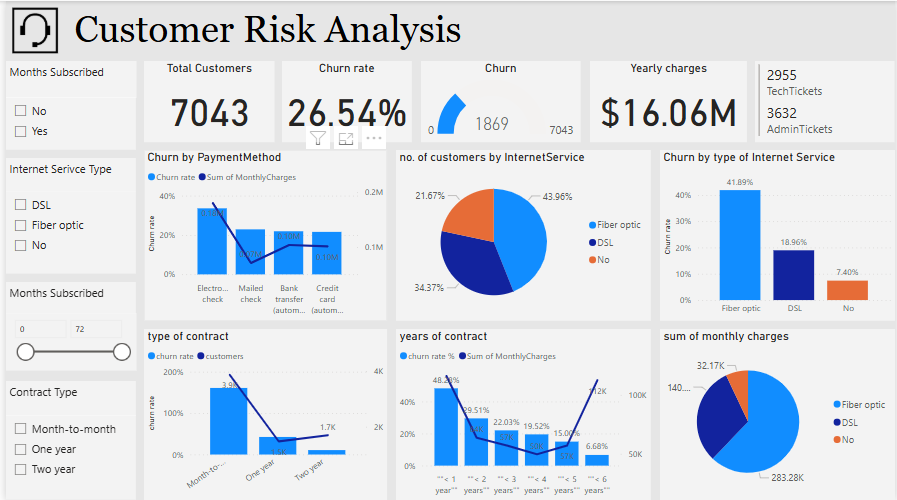

Layout of this report page (visuals, bound fields, positions):
{"tool":"powerbi","page":{"name":"Customer Risk Analysis","canvas":[1280,720],"ordinal":1},"visuals":[{"type":"lineClusteredColumnComboChart","title":"Churn by PaymentMethod","fields":{"Category":["01 Churn-Dataset.PaymentMethod"],"Y":["Divide(CountNonNull(Churned.Churn), ScopedEval(CountNonNull(Churned.Churn), []))"],"Y2":["Sum(Churned.MonthlyCharges)"]},"box":[198.2,214.7,350.1,246.1],"z":0},{"type":"card","title":"Total Customers","fields":{"Values":["CountNonNull(01 Churn-Dataset.Churn)"]},"box":[198.2,85.9,188.3,117.3],"z":1000},{"type":"pieChart","title":"sum of monthly charges","fields":{"Y":["Sum(Churned.MonthlyCharges)"],"Category":["Churned.InternetService"]},"box":[941.4,472.4,338.6,247.7],"z":2000},{"type":"lineClusteredColumnComboChart","title":"type of contract","fields":{"Y":["Churned.churn rate %"],"Category":["Churned.Contract"],"Y2":["CountNonNull(Churned.customerID)"]},"box":[198.2,472.4,350.1,247.7],"z":3000},{"type":"lineClusteredColumnComboChart","title":"years of contract","fields":{"Category":["Churned.Loyalty"],"Y":["Churned.churn rate %"],"Y2":["Sum(Churned.MonthlyCharges)"]},"box":[561.5,472.4,366.7,247.7],"z":4000},{"type":"gauge","title":"Churn","fields":{"Y":["Churned.Count of Churn for Yes"],"MaxValue":["CountNonNull(Churned.customerID)"]},"box":[597.9,85.9,229.6,117.3],"z":5000},{"type":"card","title":"Yearly charges","fields":{"Values":["Sum(Churned.TotalCharges)"]},"box":[840.7,85.9,226.3,117.3],"z":6000},{"type":"card","title":"Churn rate","fields":{"Values":["Churned.churn rate %"]},"box":[398,85.9,186.6,117.3],"z":7000},{"type":"multiRowCard","fields":{"Values":["Sum(Churned.numTechTickets)","Sum(Churned.numAdminTickets)"]},"box":[1078.5,85.9,201.5,117.3],"z":8000},{"type":"clusteredColumnChart","title":"Churn by type of Internet Service","fields":{"Category":["Churned.InternetService"],"Y":["Churned.churn rate %"]},"box":[941.4,214.7,338.6,246.1],"z":9000},{"type":"pieChart","title":"no. of customers by InternetService","fields":{"Category":["01 Churn-Dataset.InternetService"],"Y":["CountNonNull(Churned.customerID)"]},"box":[561.5,214.7,366.7,246.1],"z":10000},{"type":"slicer","fields":{"Values":["Churned.Churn"]},"box":[0,138.7,186.6,76],"z":11000},{"type":"slicer","fields":{"Values":["Churned.InternetService"]},"box":[0,274.2,186.6,118.9],"z":12000},{"type":"slicer","fields":{"Values":["Churned.tenure"]},"box":[0,449.2,188.3,82.6],"z":13000},{"type":"slicer","fields":{"Values":["Churned.Contract"]},"box":[0,596.2,186.6,122.2],"z":14000},{"type":"textbox","box":[0,404.6,186.6,44.6],"z":15000},{"type":"textbox","box":[94.1,5,1185.9,76],"z":16000},{"type":"image","box":[0,5,84.2,76],"z":17000},{"type":"textbox","box":[0,546.7,186.6,49.5],"z":18000},{"type":"textbox","box":[0,226.3,186.6,47.9],"z":19000},{"type":"textbox","box":[0,85.9,188.3,52.9],"z":20000}]}

Visuals, with their boxes in screenshot pixels (x1, y1, x2, y2), scaled from the page's 1280x720 canvas onto the 897x500 screenshot:
"Churn by PaymentMethod" lineClusteredColumnComboChart: Rect(139, 149, 384, 320)
"Total Customers" card: Rect(139, 60, 271, 141)
"sum of monthly charges" pieChart: Rect(660, 328, 896, 499)
"type of contract" lineClusteredColumnComboChart: Rect(139, 328, 384, 499)
"years of contract" lineClusteredColumnComboChart: Rect(393, 328, 650, 499)
"Churn" gauge: Rect(419, 60, 580, 141)
"Yearly charges" card: Rect(589, 60, 748, 141)
"Churn rate" card: Rect(279, 60, 410, 141)
multiRowCard - Sum(Churned.numTechTickets) x Sum(Churned.numAdminTickets): Rect(756, 60, 896, 141)
"Churn by type of Internet Service" clusteredColumnChart: Rect(660, 149, 896, 320)
"no. of customers by InternetService" pieChart: Rect(393, 149, 650, 320)
slicer - Churned.Churn: Rect(0, 96, 131, 149)
slicer - Churned.InternetService: Rect(0, 190, 131, 273)
slicer - Churned.tenure: Rect(0, 312, 132, 369)
slicer - Churned.Contract: Rect(0, 414, 131, 499)
textbox: Rect(0, 281, 131, 312)
textbox: Rect(66, 3, 896, 56)
image: Rect(0, 3, 59, 56)
textbox: Rect(0, 380, 131, 414)
textbox: Rect(0, 157, 131, 190)
textbox: Rect(0, 60, 132, 96)
